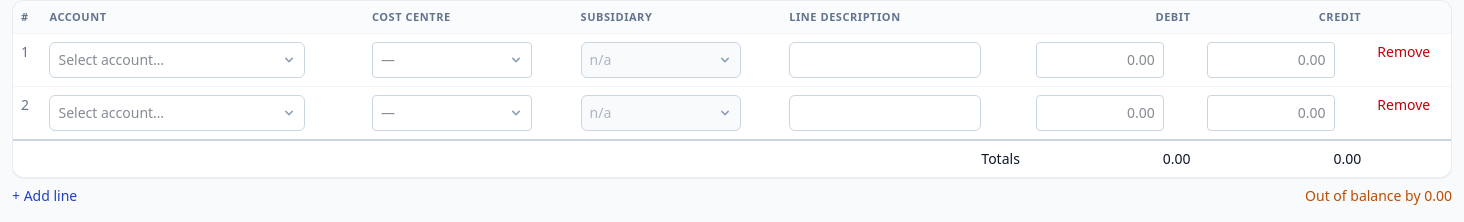
LinesEditor › flags invalid amounts and offers only postable accounts
The width and height of the screenshot is (1464, 222).
Type "1.005" into the field named "Line 1 debit" at (1100, 60), box 1036,42 -> 1164,78
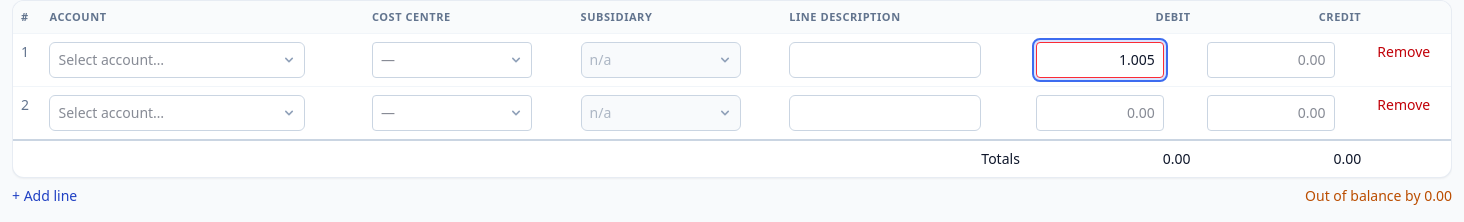
Expected: the field named "Line 1 debit" is marked as invalid, 1036,42 -> 1164,78
Click the dropdown named "Line 1 account" at (178, 60), box 50,42 -> 306,78
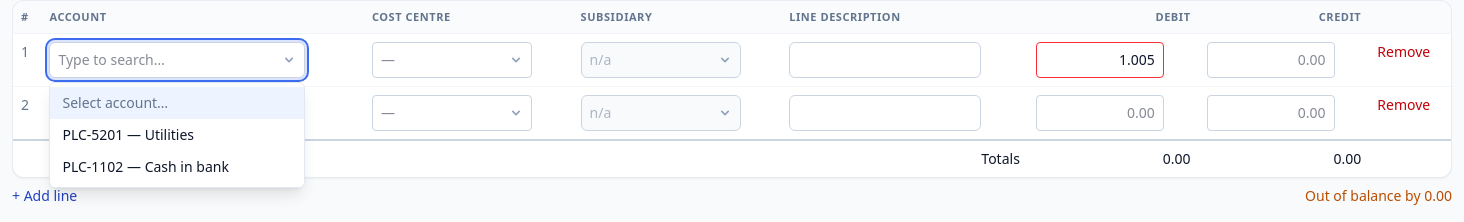
Expected: the option "PLC-5201 — Utilities" is shown, 62,125 -> 194,144
